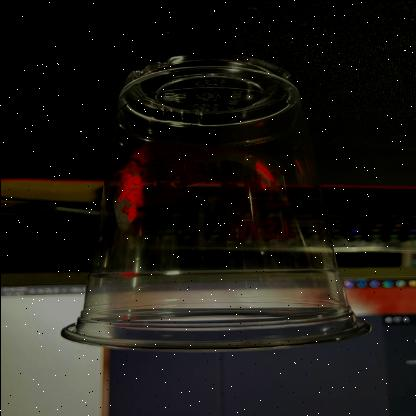Others: (56, 49, 371, 351)
